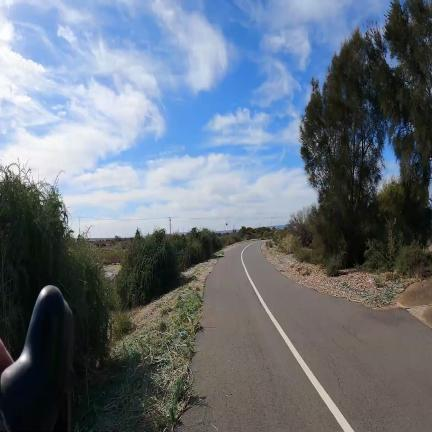Bike_Lane: (179, 240, 432, 432)
